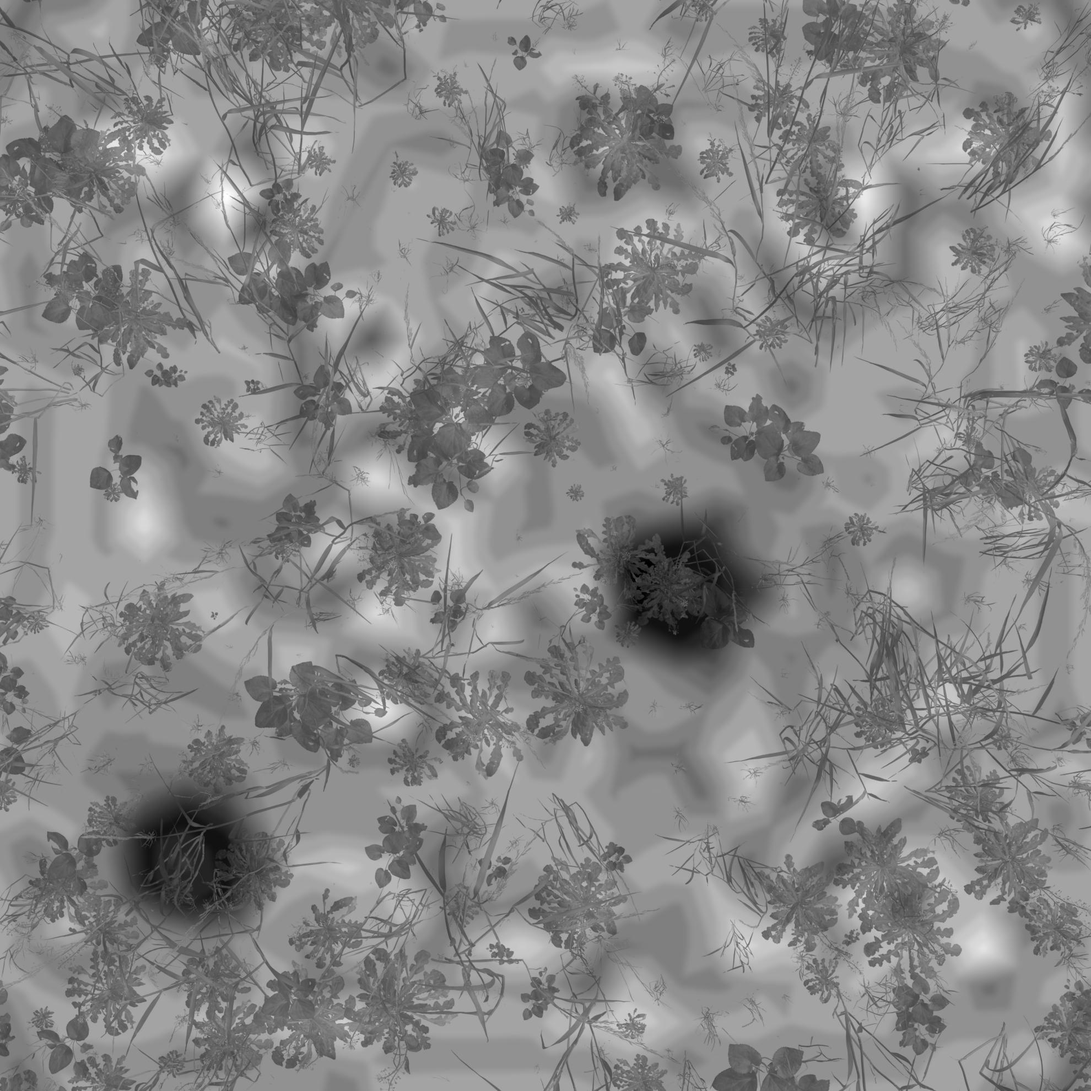landmine: (600, 511, 758, 658), (120, 793, 255, 926)
